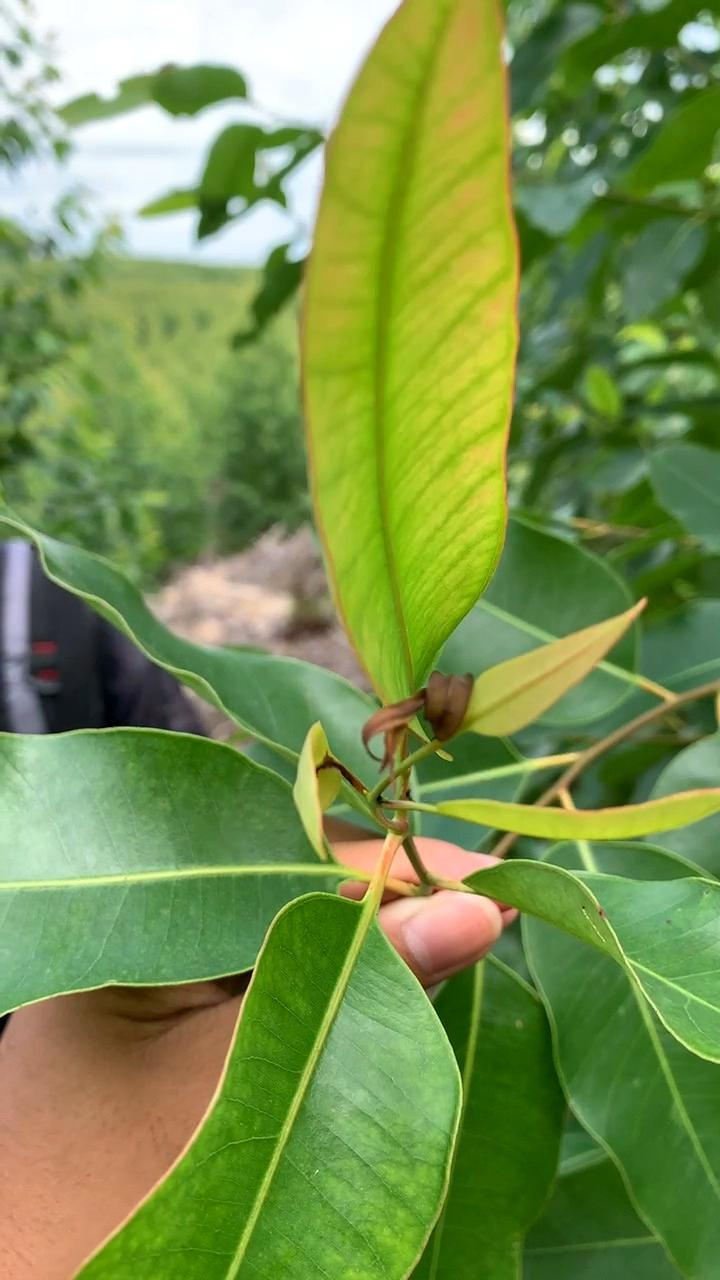Helopeltis-Withered Sprout: (351, 658, 496, 781)
